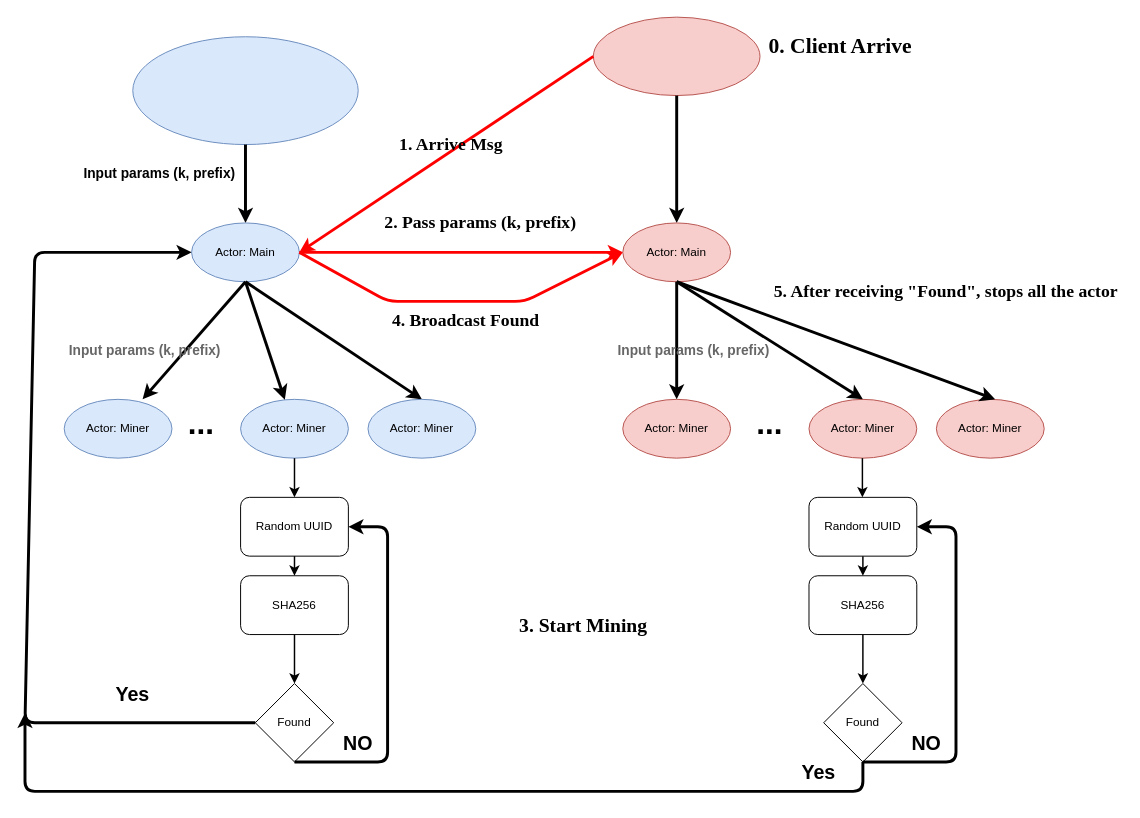
The diagram is 1140 pixels wide and 818 high, and some of its shapes have lost their labels. The shapes that lost their labels are listed below. From the top down, each one's box as (x1, y1, x2, y2) in pixels, then its label:
(592, 16, 760, 96): Client Process
(132, 36, 358, 145): Server Process
